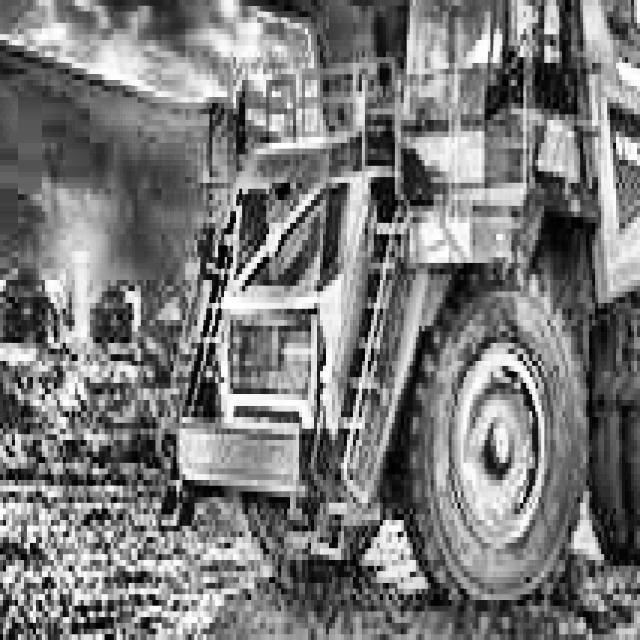dump_truck: (146, 0, 640, 577)
